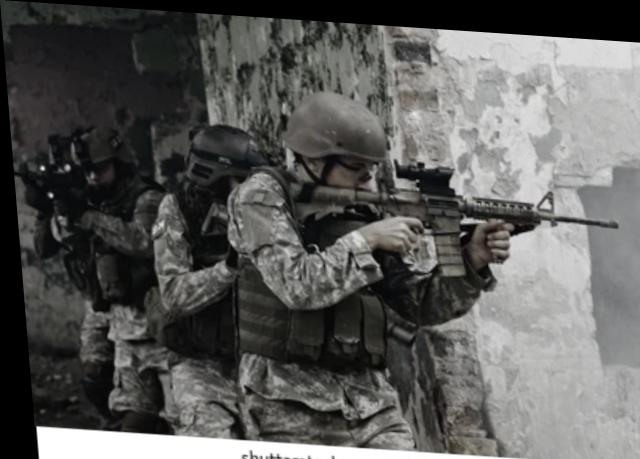other: (218, 111, 445, 440), (128, 112, 284, 439), (35, 113, 171, 425)
